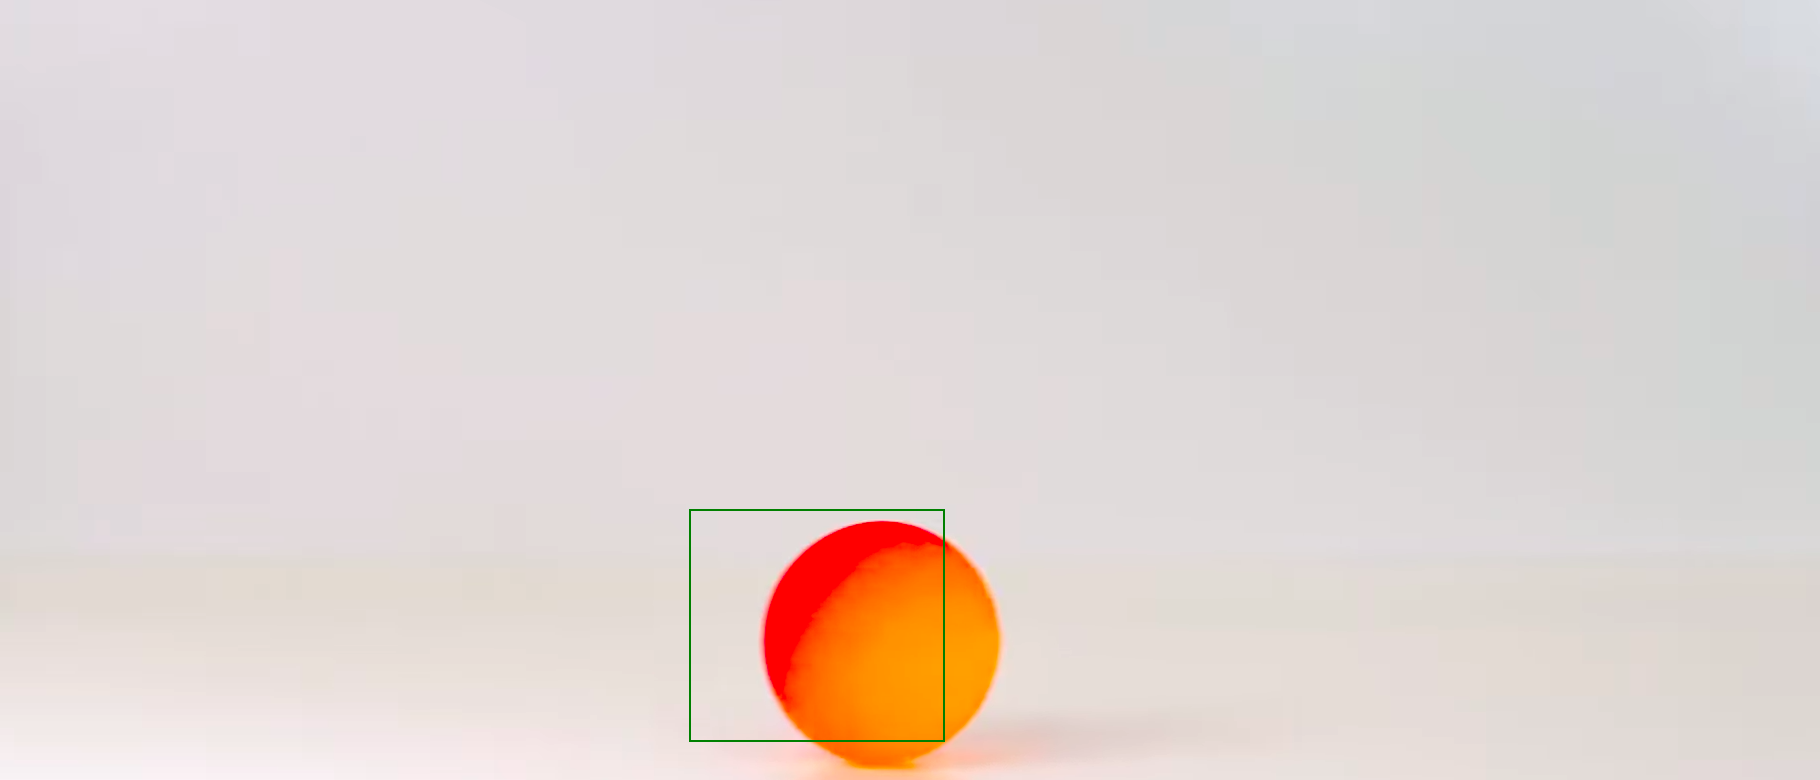Circle: (759, 518, 1008, 768)
